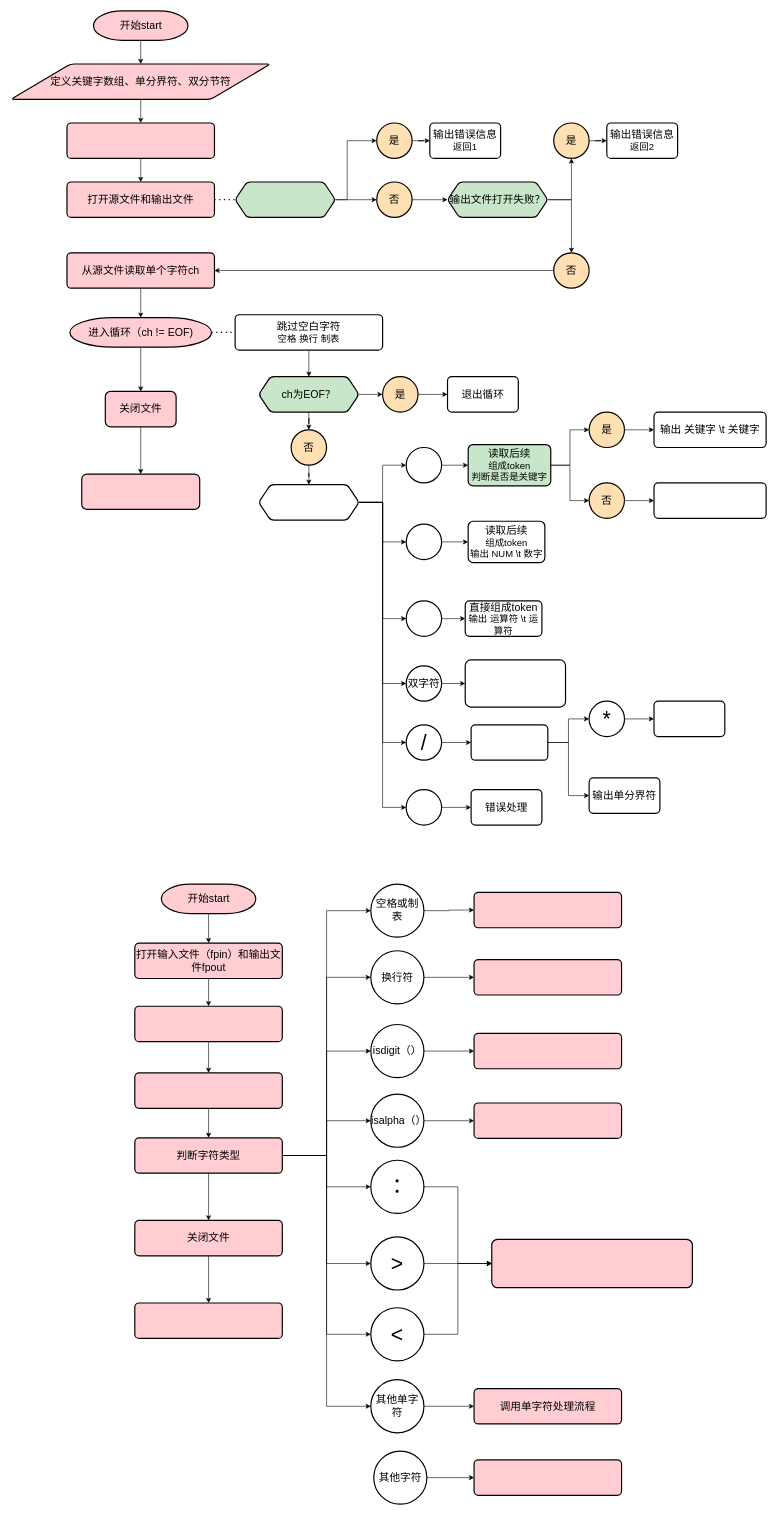
Image size: 776x1515. Some labels were removed from this diagram. The shapes that lost their labels are listed below. From the top down, each one's centre as x and y in pixels, then its label:
point (140, 140): 输入源程序文件路径和输出文件路径
point (285, 199): 源文件打开失败？
point (423, 465): 字母
point (140, 491): 返回错误状态码
point (308, 502): 判断ch类型
point (709, 500): 输出 ID \t 标识符
point (423, 541): 数字
point (423, 618): 单字符
point (515, 683): 读取下一个字符 组成token 输出 运算符 \t 运算符
point (689, 718): 注释处理 */ 结束
point (509, 742): 读取下一个字符
point (423, 807): 其他
point (547, 909): 跳过继续读取
point (547, 977): lineno++继续读取
point (208, 1023): 初始化arr[MAXBUF]
point (547, 1050): 调用数字处理流程
point (208, 1090): 循环读取字符
point (547, 1120): 调用标识符处理流程
point (592, 1263): 调用双字符符号处理流程
point (208, 1320): 结束end
point (547, 1477): 报错
